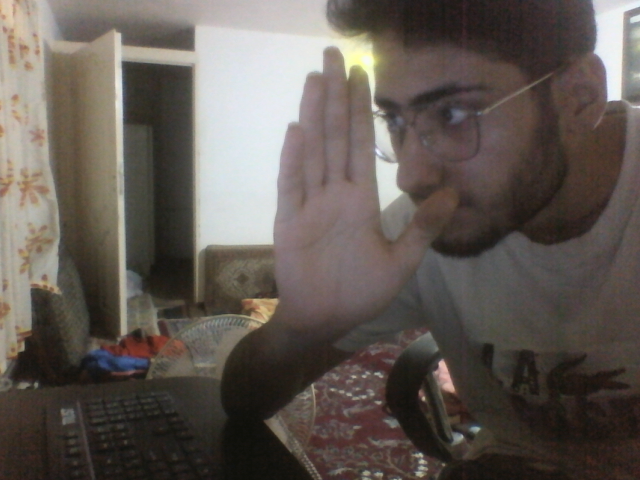sorat: (319, 1, 613, 256)
taslim: (275, 46, 462, 328)
